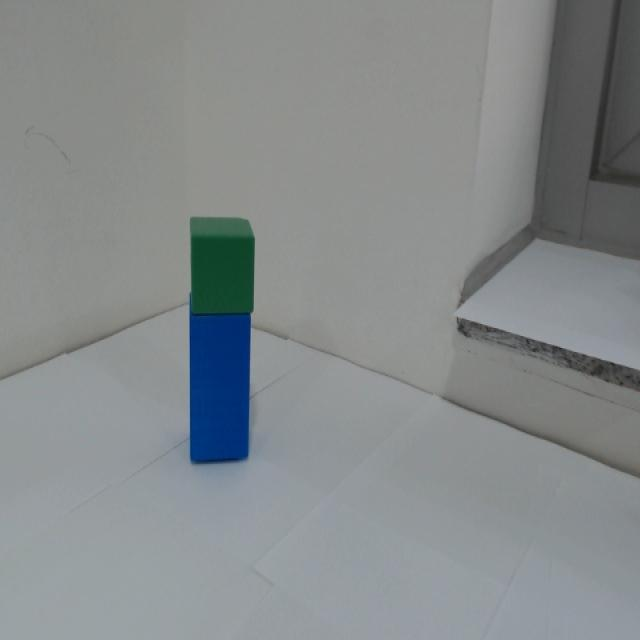cube: (178, 211, 280, 314)
